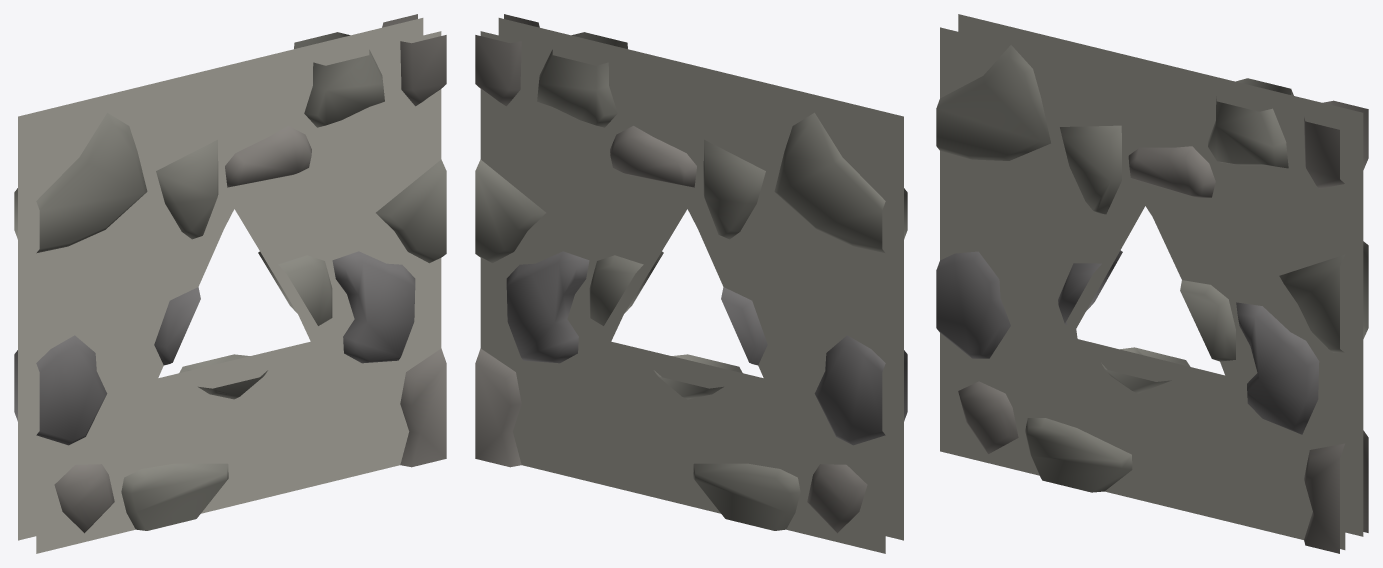
File: rpgpp_ag_wall_04_3x3_window_05b.fbx
3 views of the same model, side by side, from view 1: azimuth 30°, elevation 25°; view 2: azimuth 150°, elevation 25°; view 3: azimuth 330°, elevation 25° (orthographic).
Visible parts, largest first — view 1: rpgpp_ag_wall_04_3x3_window_05b; view 2: rpgpp_ag_wall_04_3x3_window_05b; view 3: rpgpp_ag_wall_04_3x3_window_05b.
Part boxes in pixels (x1=…): rpgpp_ag_wall_04_3x3_window_05b: x1=14, y1=14, x2=446, y2=553; rpgpp_ag_wall_04_3x3_window_05b: x1=475, y1=14, x2=907, y2=553; rpgpp_ag_wall_04_3x3_window_05b: x1=936, y1=14, x2=1368, y2=553.
Size of the model in its own units: 3 by 3 by 0.404.
